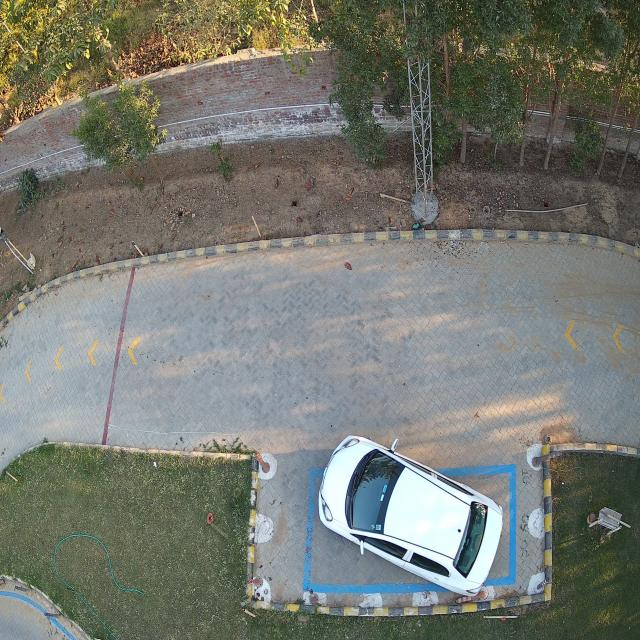car: (317, 437, 504, 594)
